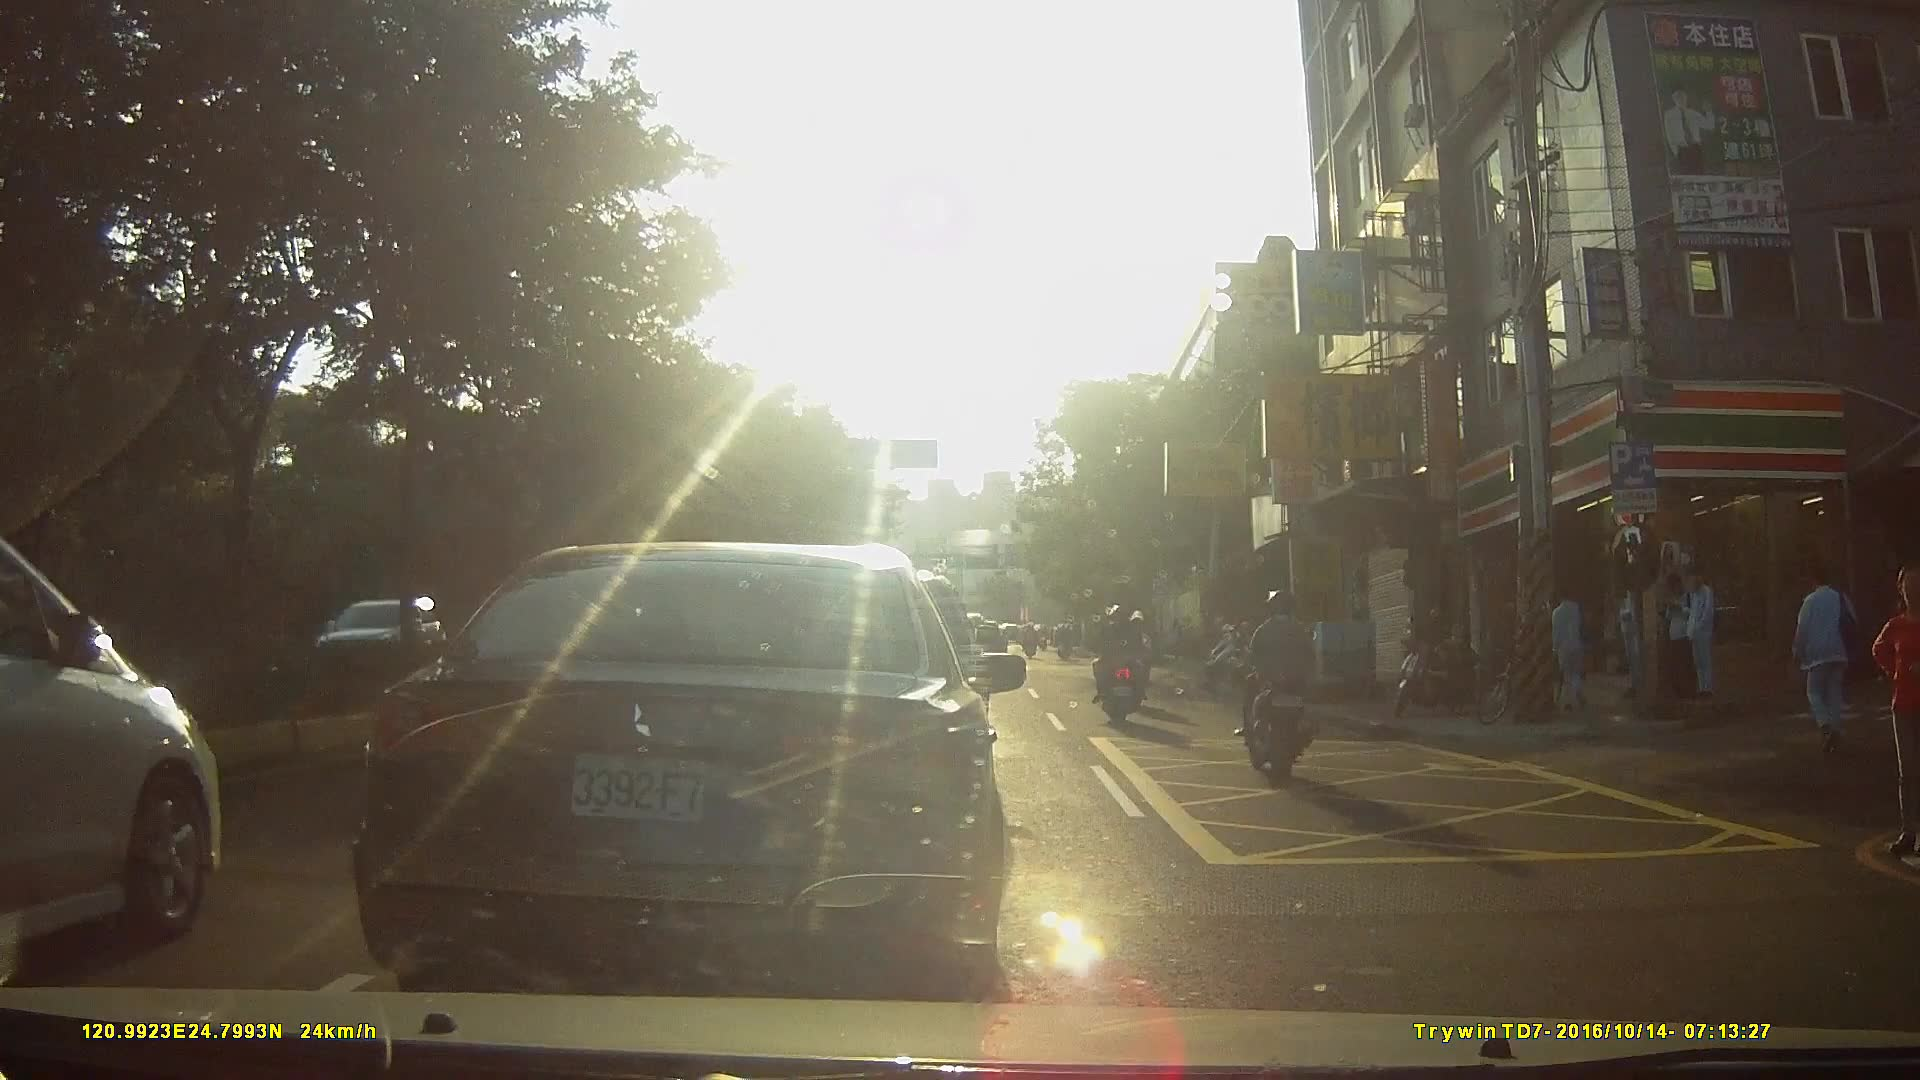pedestrian: (1786, 564, 1867, 759), (1870, 567, 1920, 854), (1540, 579, 1589, 715), (1671, 569, 1719, 699), (1614, 573, 1655, 708), (1661, 567, 1699, 711)
rider: (1239, 592, 1321, 776), (1092, 604, 1148, 724), (1055, 622, 1077, 665), (1021, 623, 1041, 664)
vehicle: (361, 542, 1037, 983), (1, 522, 268, 974), (315, 594, 449, 698)
